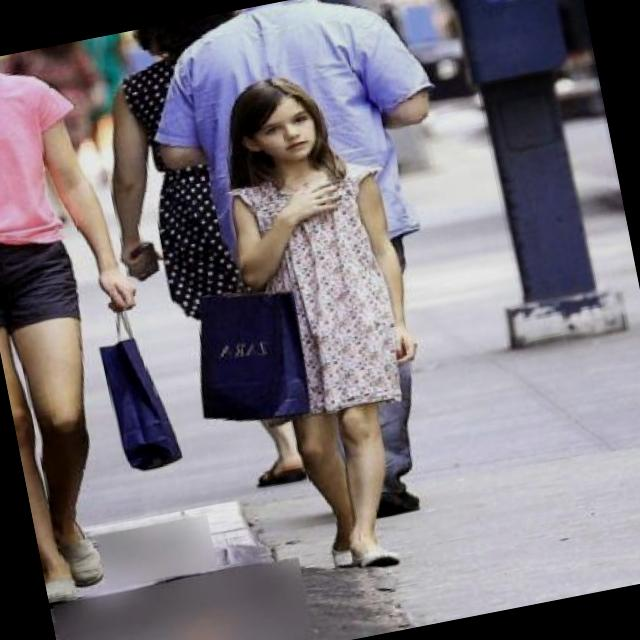Person: (97, 47, 484, 628)
